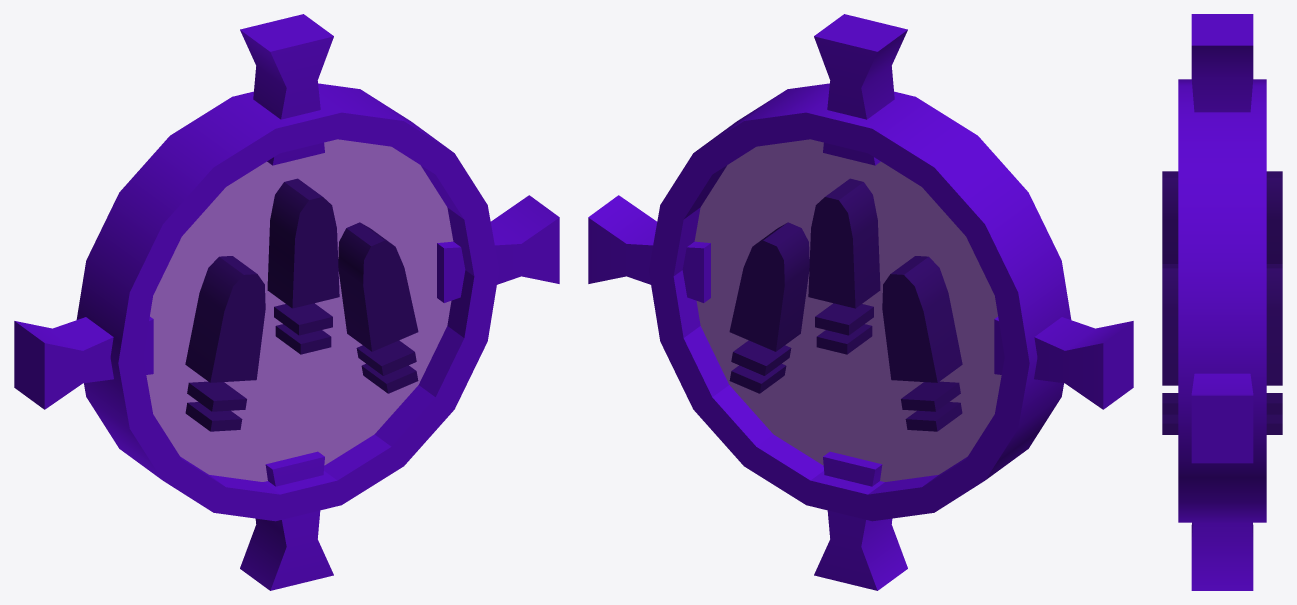
The model's file is RapidFire Power Up.FBX.
3 views of the same model, side by side, from view 1: azimuth 30°, elevation 25°; view 2: azimuth 150°, elevation 25°; view 3: azimuth 270°, elevation 25° (orthographic).
Visible parts, largest first — view 1: Object001, Object004; view 2: Object001, Object004; view 3: Object001, Object004.
Boxes of the visible parts, bbox=[...] form: Object001: bbox=[14, 14, 559, 590]; Object004: bbox=[185, 178, 418, 431]; Object001: bbox=[588, 14, 1133, 590]; Object004: bbox=[729, 178, 962, 431]; Object001: bbox=[1178, 14, 1266, 590]; Object004: bbox=[1162, 171, 1282, 434].
Bounding box in the file's own units: 32.12 × 32.12 × 6.43.
